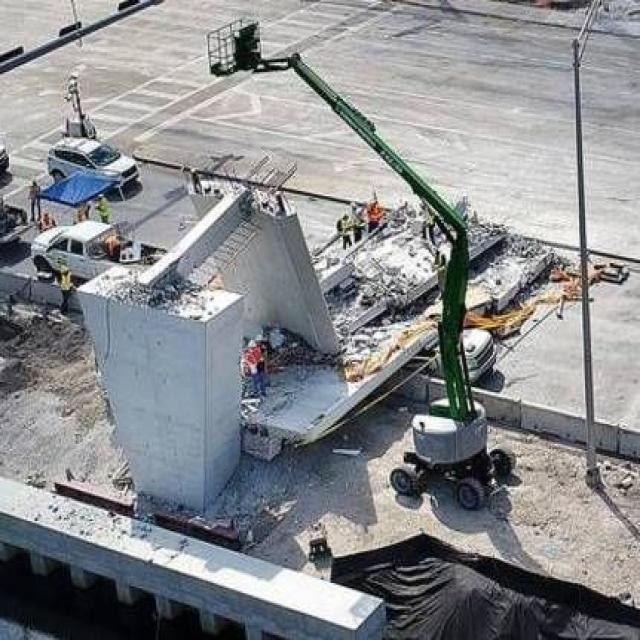collapsed_building: (107, 169, 555, 454)
